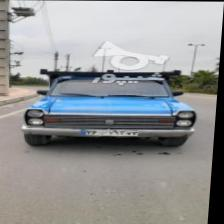plate: (80, 128, 142, 137)
